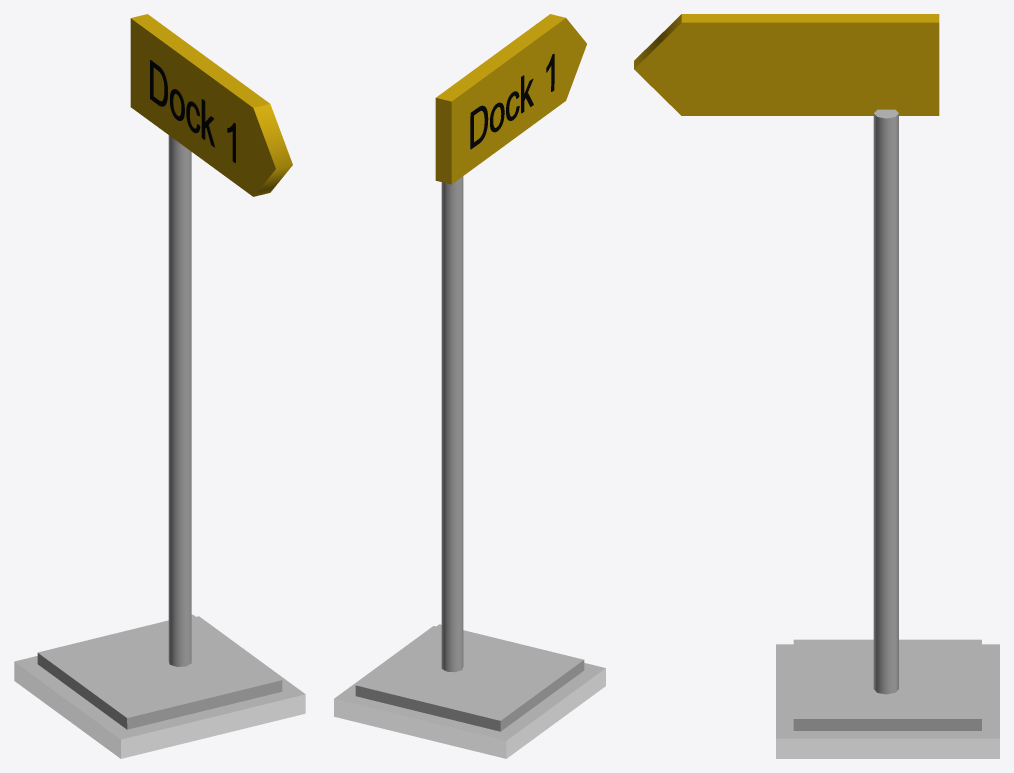
The model's file is Dock-1.FBX.
The picture shows the model from 3 angles, left to right: view 1: azimuth 30°, elevation 25°; view 2: azimuth 150°, elevation 25°; view 3: azimuth 270°, elevation 25°; orthographic projection. The views are drawn at different scales.
Visible parts, largest first — view 1: ChamferBox001, Box001, Cylinder001, Text001; view 2: ChamferBox001, Box001, Cylinder001, Text001; view 3: Box001, ChamferBox001, Cylinder001.
Boxes of the visible parts, x1=… form: ChamferBox001: x1=14, y1=614, x2=305, y2=758; Box001: x1=130, y1=14, x2=292, y2=196; Cylinder001: x1=168, y1=135, x2=191, y2=666; Text001: x1=150, y1=60, x2=235, y2=163; ChamferBox001: x1=334, y1=624, x2=605, y2=758; Box001: x1=435, y1=14, x2=586, y2=184; Cylinder001: x1=441, y1=176, x2=463, y2=672; Text001: x1=470, y1=54, x2=554, y2=149; Box001: x1=634, y1=14, x2=939, y2=115; ChamferBox001: x1=776, y1=639, x2=999, y2=758; Cylinder001: x1=873, y1=109, x2=898, y2=694.
Size of the model in its own units: 5.34 by 18.28 by 8.72.
